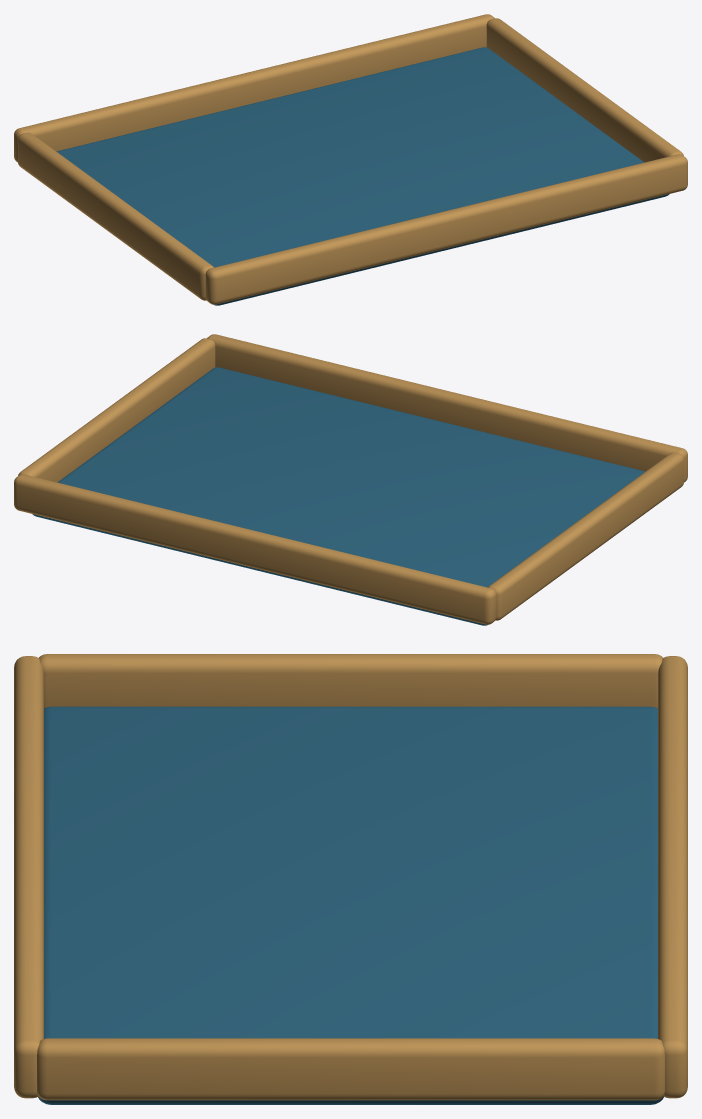
Rendered from Malapoly_Tray.fbx.
The picture shows the model from 3 angles, top to bottom: view 1: azimuth 30°, elevation 25°; view 2: azimuth 150°, elevation 25°; view 3: azimuth 270°, elevation 25°; orthographic projection. The views are drawn at different scales.
Parts seen in each view (by area): view 1: Blue felt, South brass rim, North brass rim, West brass rim, East brass rim; view 2: Blue felt, North brass rim, South brass rim, West brass rim, East brass rim; view 3: Blue felt, East brass rim, West brass rim, North brass rim, South brass rim.
Part boxes in pixels (x1=…): Blue felt: x1=56, y1=47, x2=669, y2=305; South brass rim: x1=205, y1=154, x2=687, y2=304; North brass rim: x1=14, y1=14, x2=494, y2=162; West brass rim: x1=18, y1=132, x2=213, y2=300; East brass rim: x1=486, y1=18, x2=683, y2=162; Blue felt: x1=32, y1=367, x2=645, y2=625; North brass rim: x1=14, y1=474, x2=496, y2=624; South brass rim: x1=207, y1=334, x2=687, y2=482; West brass rim: x1=488, y1=452, x2=683, y2=620; East brass rim: x1=18, y1=338, x2=215, y2=482; Blue felt: x1=38, y1=706, x2=663, y2=1104; East brass rim: x1=37, y1=1038, x2=664, y2=1100; West brass rim: x1=39, y1=654, x2=662, y2=708; North brass rim: x1=658, y1=656, x2=687, y2=1098; South brass rim: x1=14, y1=656, x2=43, y2=1098.
Bounding box in the file's own units: 5.66 × 0.48 × 4.06.
